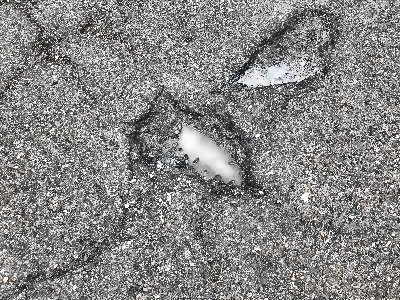pothole: (125, 84, 263, 198), (230, 6, 343, 90)
